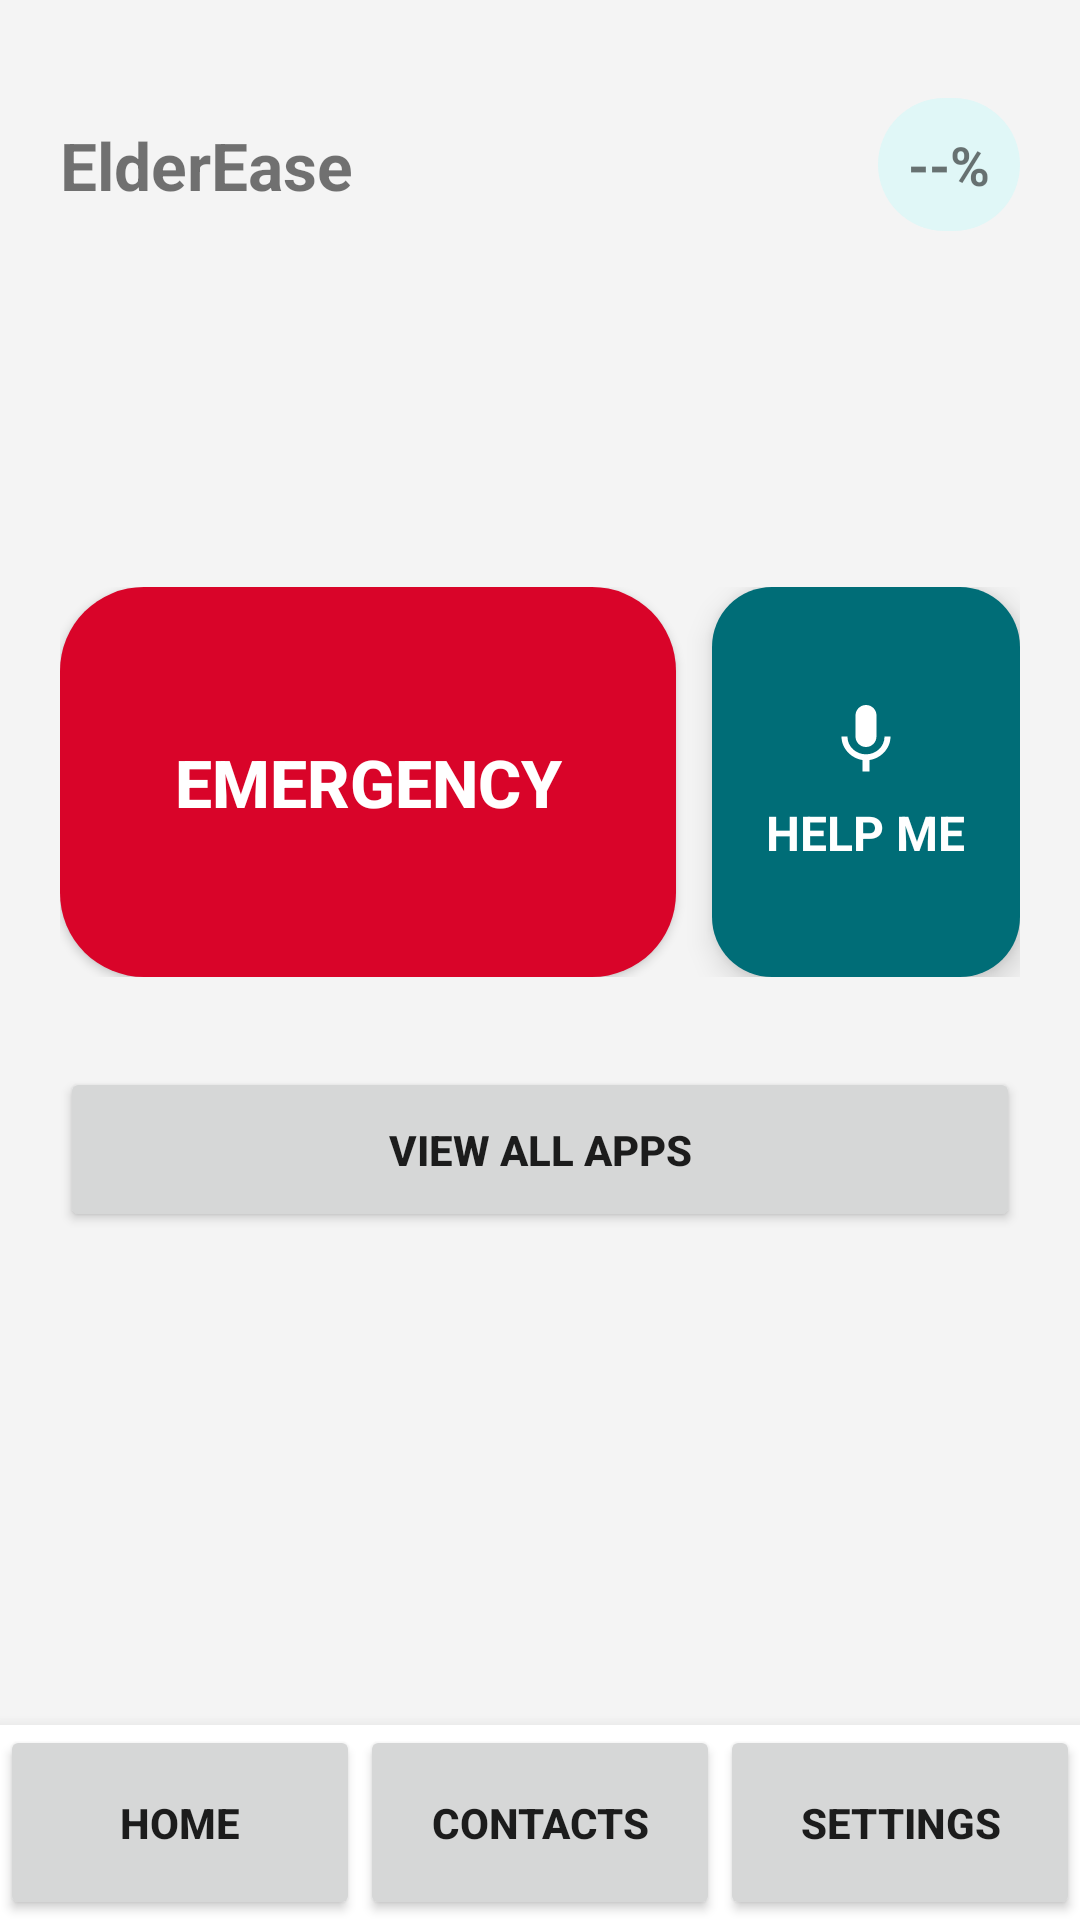

Named icons in this screenshot (1080px x 1920px) and their bounding boxes, bbox(x1, y1, x2, y2):
mic: bbox(841, 705, 891, 772)
